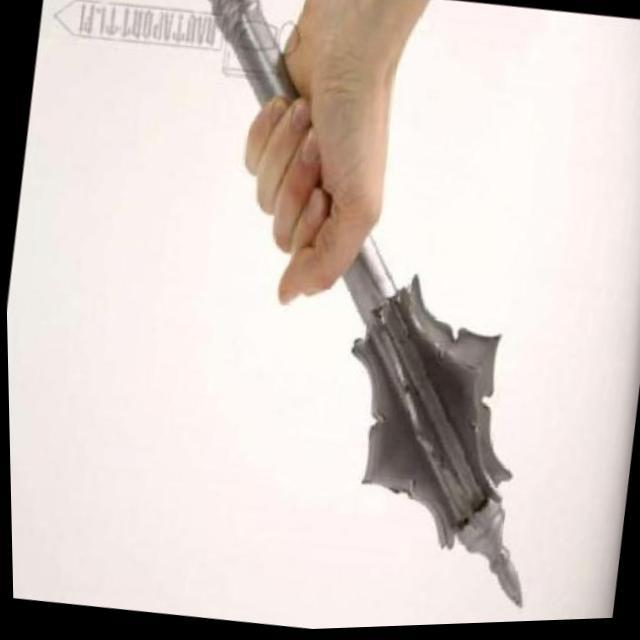weapon: (101, 0, 604, 623)
